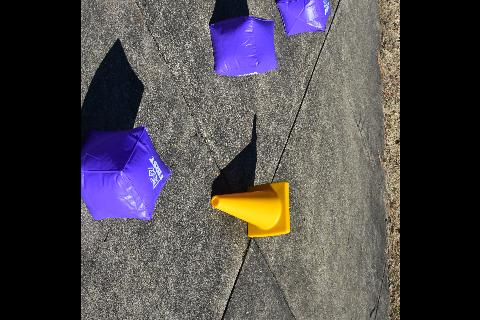cone: (210, 180, 288, 238)
cube: (80, 127, 170, 221), (208, 17, 278, 77), (275, 0, 329, 37)
